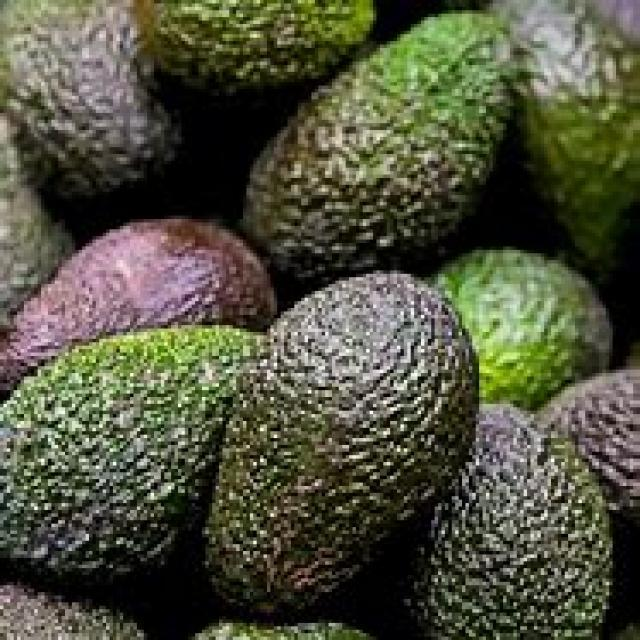avocado: (191, 281, 477, 617), (237, 4, 548, 282), (0, 315, 282, 581)
